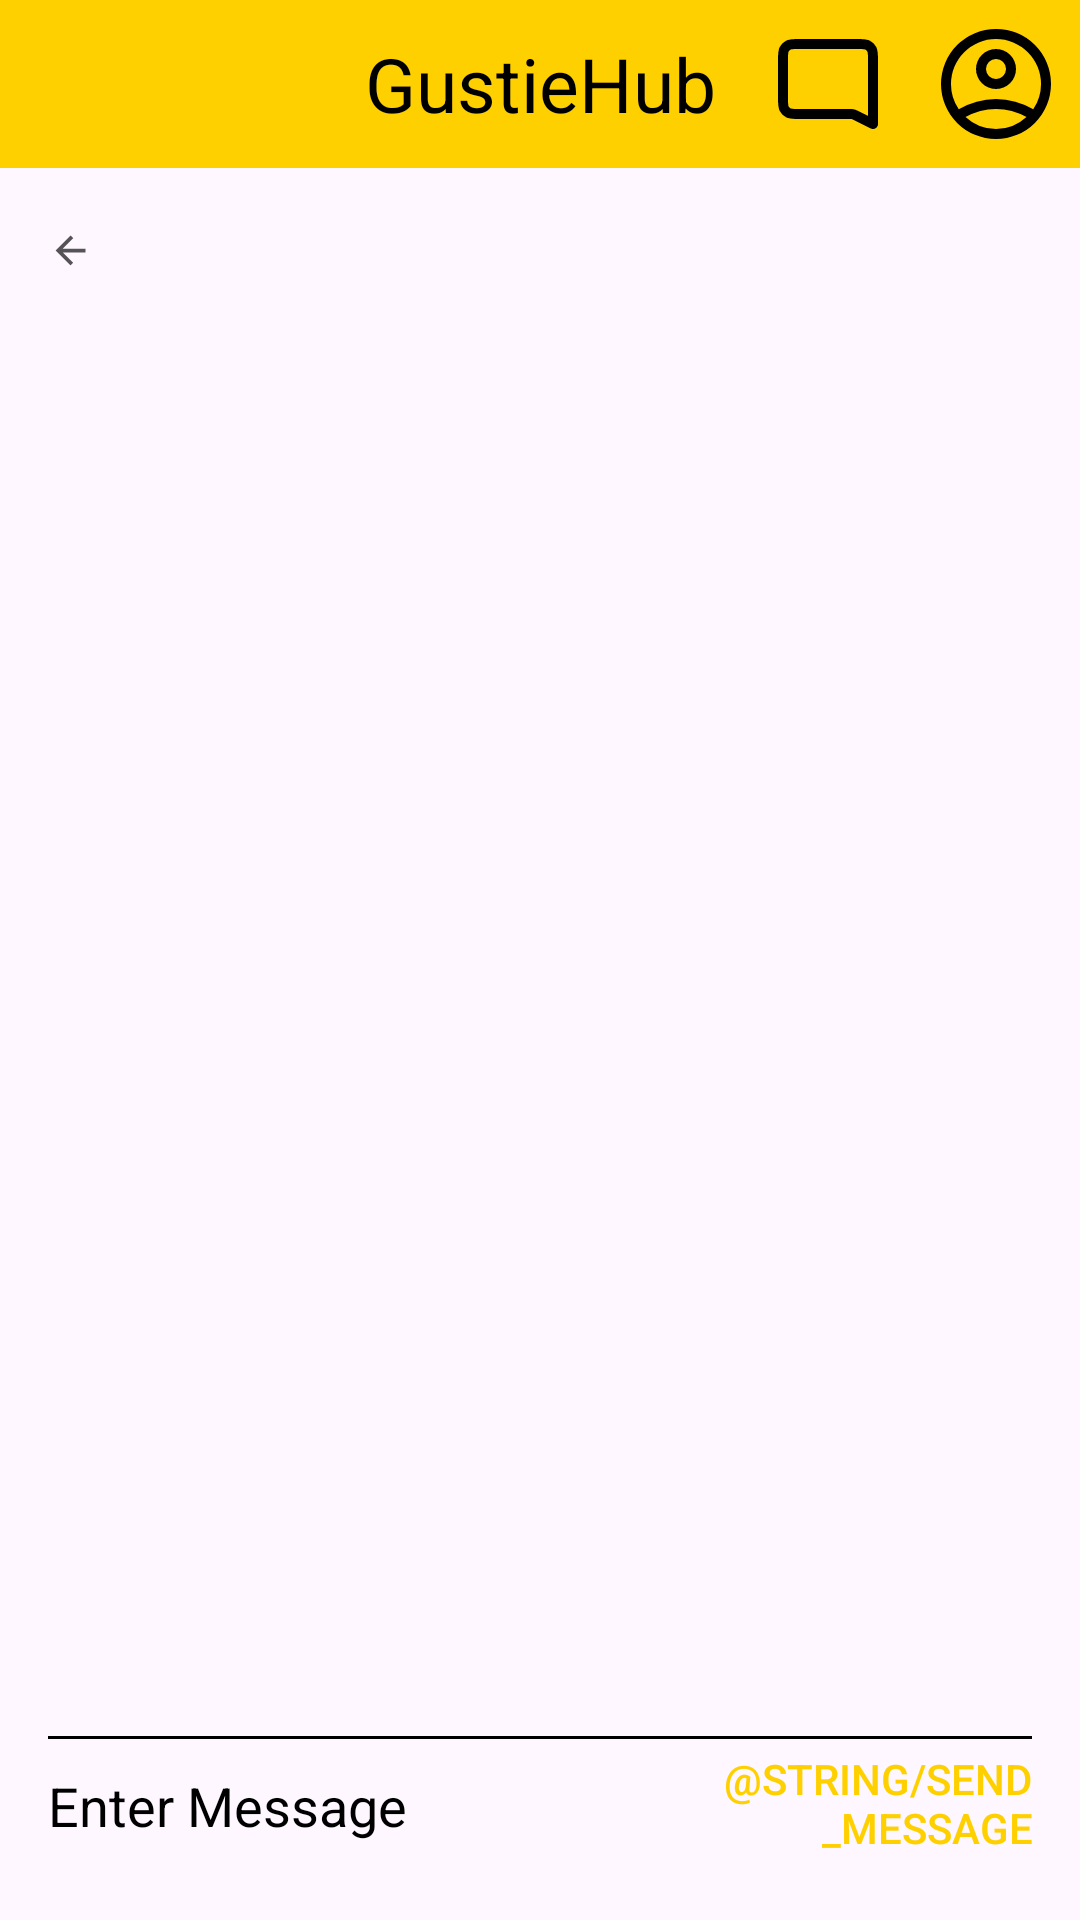

Icon click points for this 1080x1920 phone screenshot, format (x,y):
back arrow: (71,250)
message: (828,84)
profile: (996,84)
